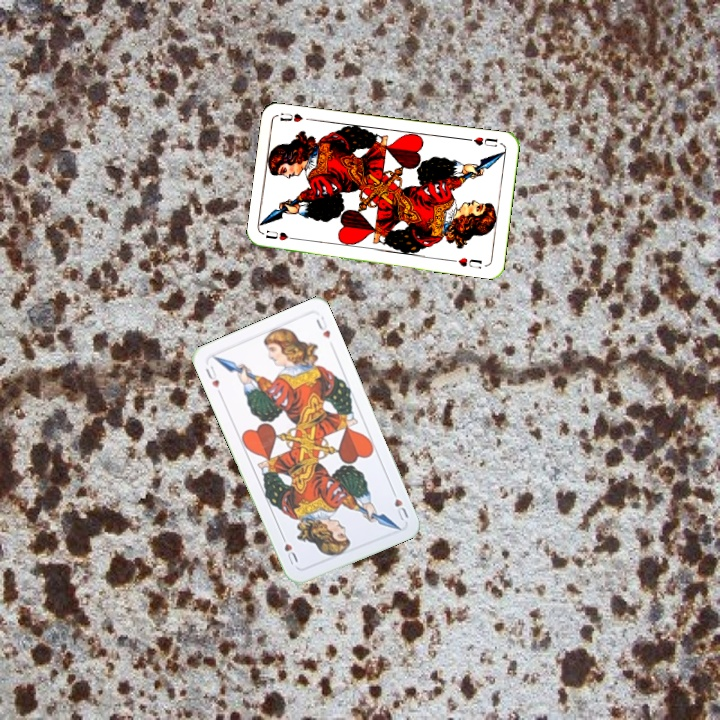HU: (387, 485, 411, 523), (261, 226, 301, 243), (201, 361, 222, 391), (463, 133, 500, 149)
